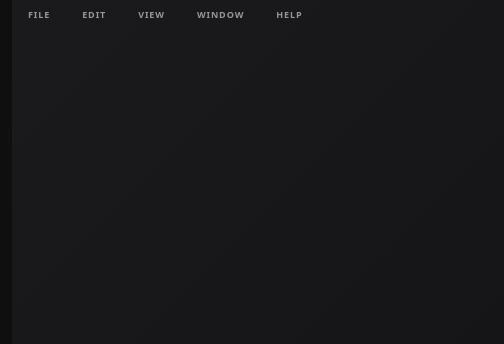
MenuBar — Help > Guided Tour › should show "Guided Tour" when Help menu is opened
Click the button "Help": (289, 15) x1=260 y1=4 x2=319 y2=26
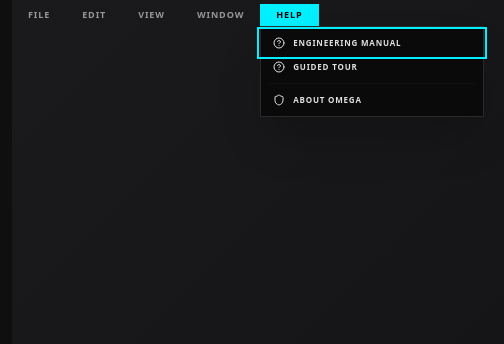
Check: the text "Guided Tour" is shown, box x1=293 y1=60 x2=358 y2=72
